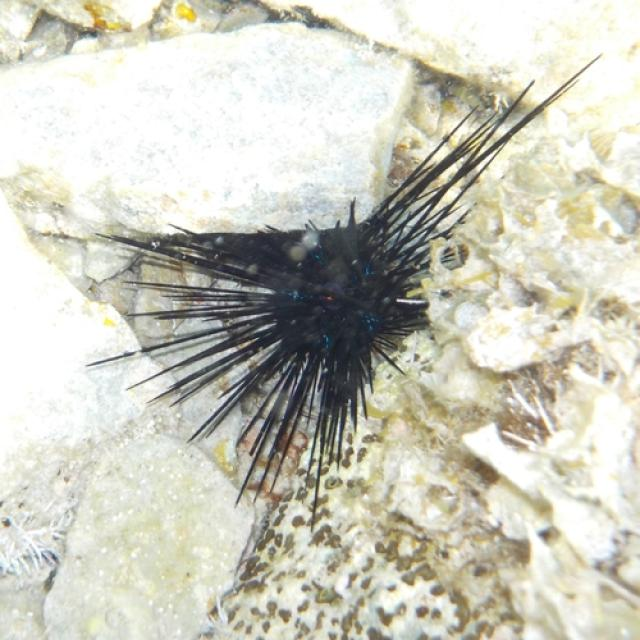Urchin: (81, 56, 604, 532)
